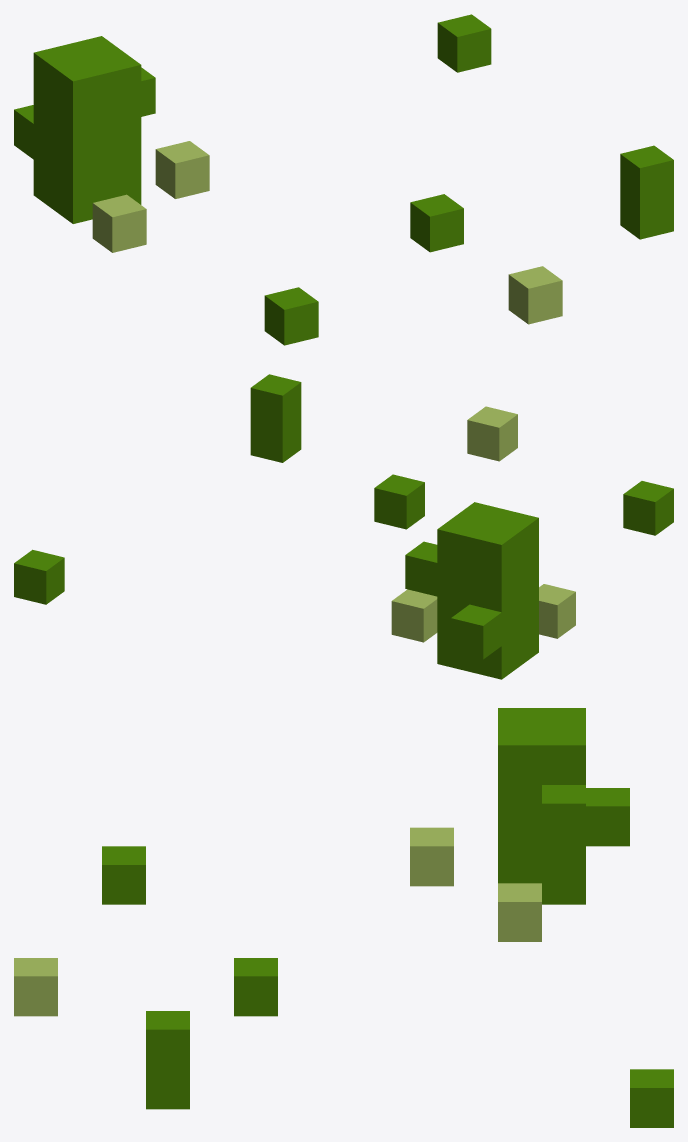
The model's file is GroundObject_004.obj.
3 renders of one model, top to bottom at view 1: azimuth 30°, elevation 25°; view 2: azimuth 150°, elevation 25°; view 3: azimuth 270°, elevation 25°, orthographic. The views are drawn at different scales.
Bounding box in the file's own units: 1.4 × 0.4 × 1.5.
Materials: 1 (1 with a texture image).
